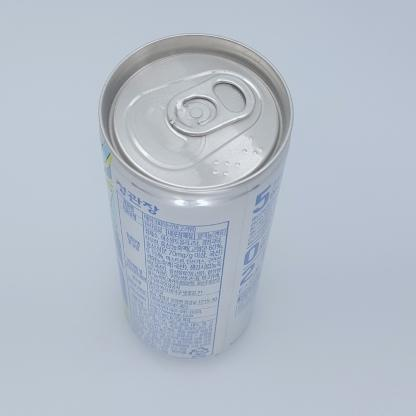---------: (99, 33, 293, 360)
